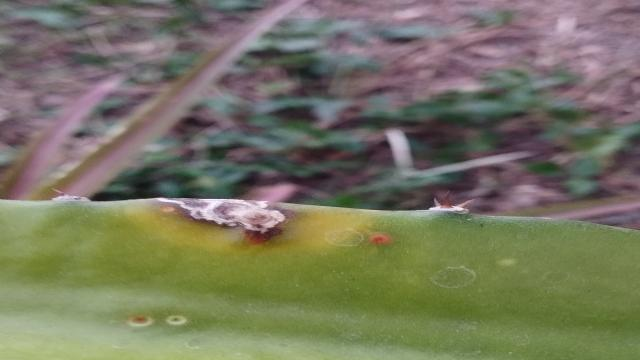stemcanker: (126, 309, 156, 330), (367, 229, 397, 250)
